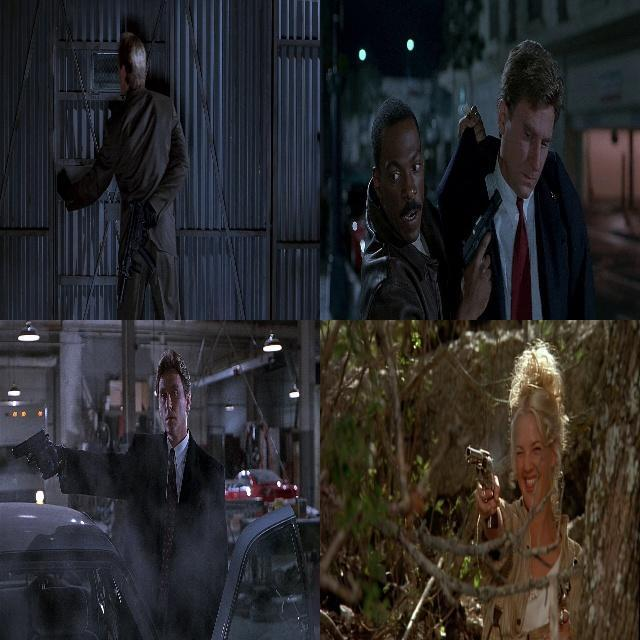gun-knife-thesis - v11 Yolov5 augmented: (457, 188, 504, 298), (111, 194, 153, 308), (462, 438, 497, 531), (10, 424, 57, 479)
